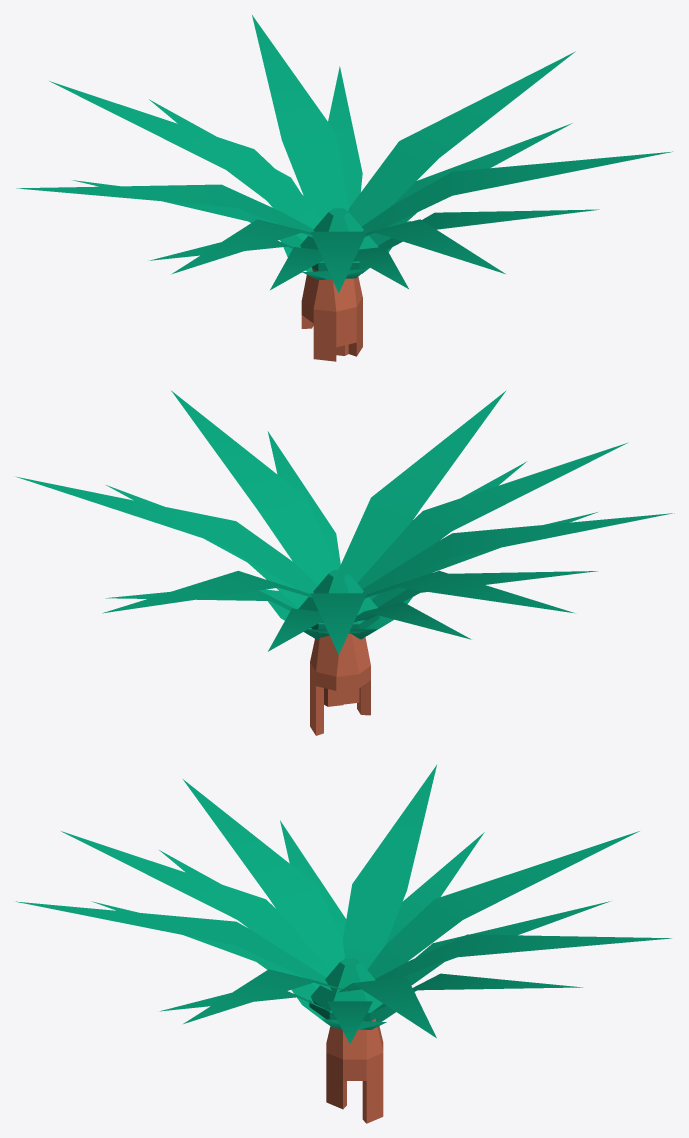
The model's file is PalmTreeBrokenTop.fbx.
3 renders of one model, top to bottom at view 1: azimuth 30°, elevation 25°; view 2: azimuth 150°, elevation 25°; view 3: azimuth 270°, elevation 25°, orthographic.
Parts seen in each view (by area): view 1: plant_smallLeaf (×16), trunk_topBroken, trunk_taper, leafs_pineA; view 2: plant_smallLeaf (×15), trunk_topBroken, trunk_taper, leafs_pineA, plant_small; view 3: plant_smallLeaf (×15), trunk_topBroken, leafs_pineA, trunk_taper, plant_small.
Boxes of the visible parts, x1,y1,x2,y2 form: plant_smallLeaf (×16): [16, 15, 672, 292]; trunk_topBroken: [301, 297, 362, 361]; trunk_taper: [302, 226, 362, 311]; leafs_pineA: [300, 208, 378, 271]; plant_smallLeaf (×15): [16, 390, 674, 654]; trunk_topBroken: [310, 663, 370, 735]; trunk_taper: [310, 633, 370, 676]; leafs_pineA: [298, 570, 379, 633]; plant_small: [260, 589, 412, 639]; plant_smallLeaf (×15): [16, 765, 671, 1043]; trunk_topBroken: [326, 1052, 383, 1123]; leafs_pineA: [309, 958, 388, 1021]; trunk_taper: [326, 1018, 383, 1059]; plant_small: [291, 989, 395, 1029].
Bounding box in the file's own units: 41.32 × 14.9 × 42.05.
